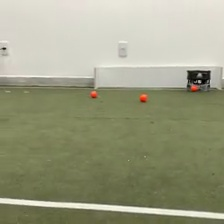ball: (89, 88, 98, 98), (139, 93, 148, 102), (190, 83, 198, 91)
goal: (93, 63, 224, 91)
robot: (185, 68, 212, 92)
